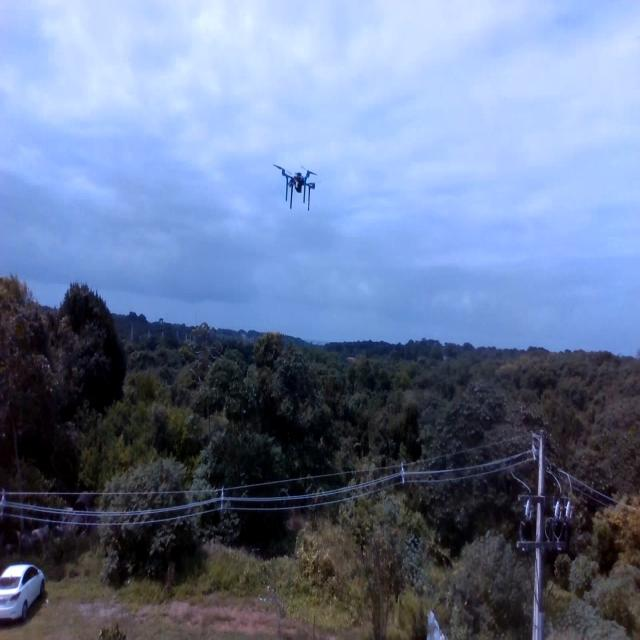-uav-: (272, 148, 322, 219)
